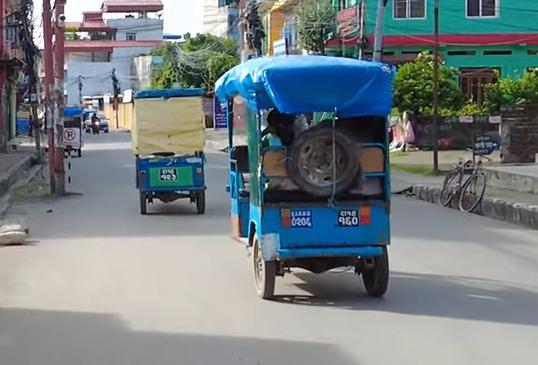e-rickshaw: (213, 42, 397, 299), (128, 83, 208, 216)
